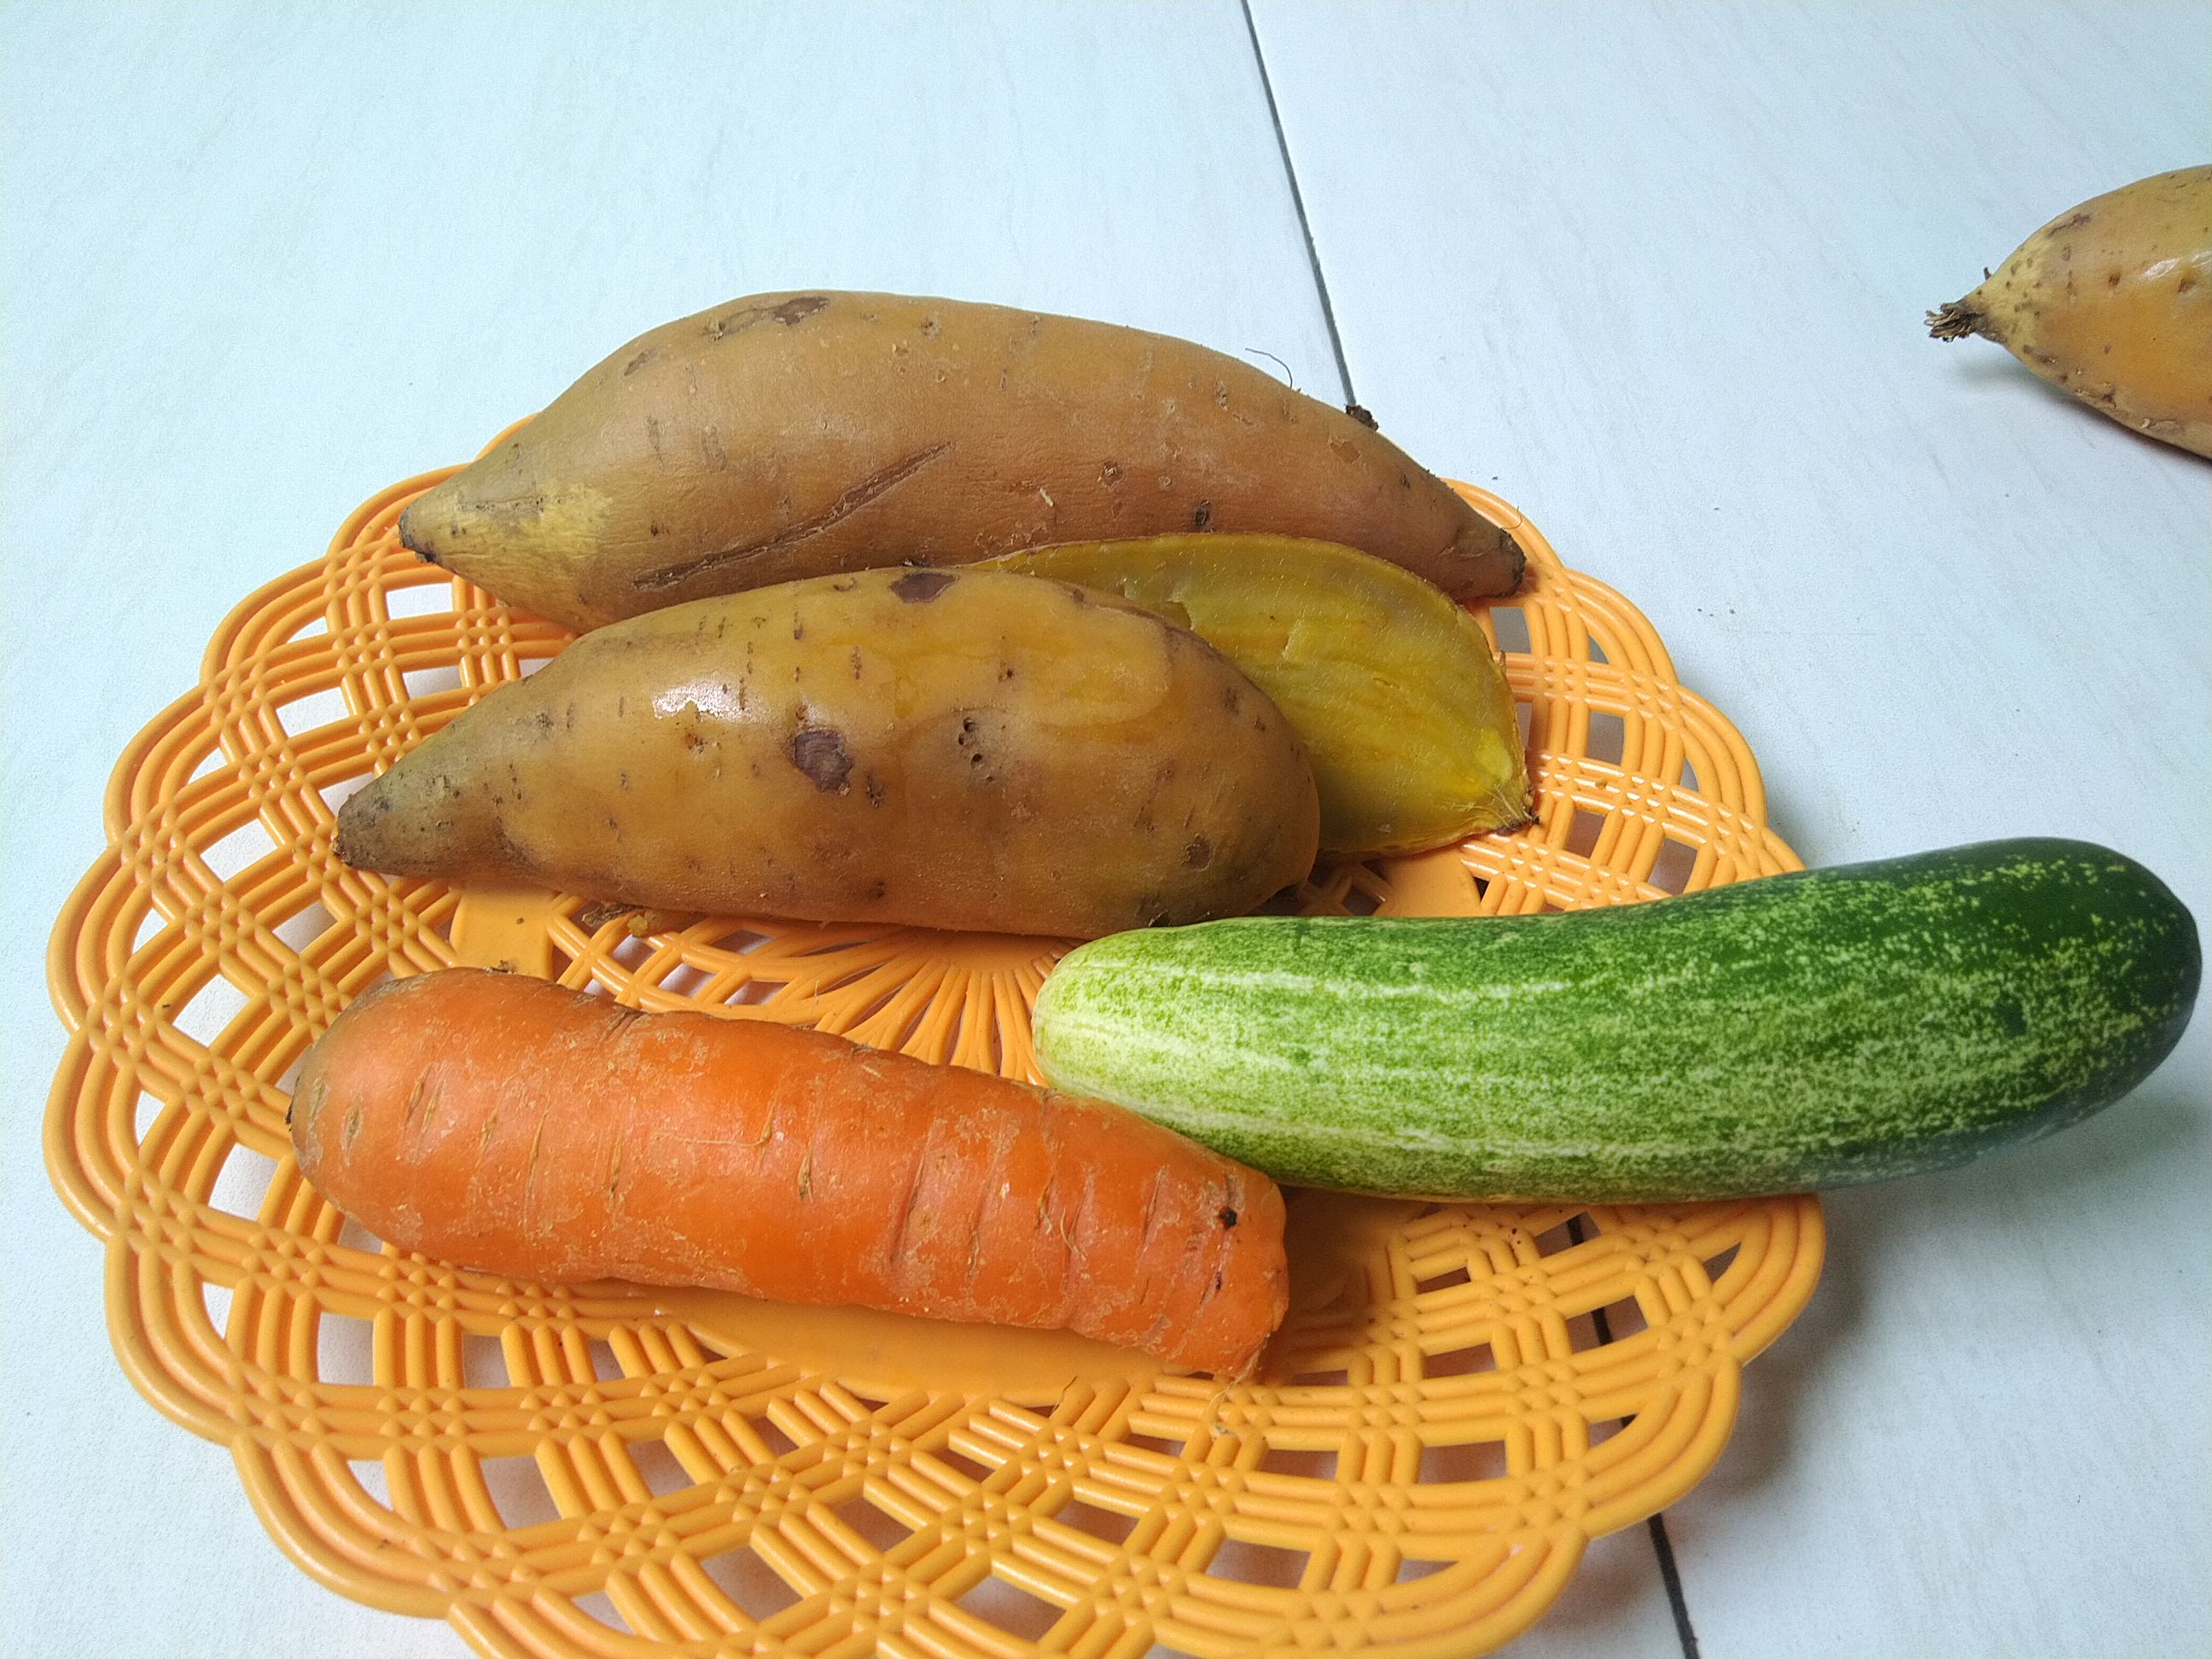ubi cilembu: (287, 533, 1533, 929), (401, 270, 1538, 624), (326, 594, 1310, 917), (1933, 153, 2212, 457)
